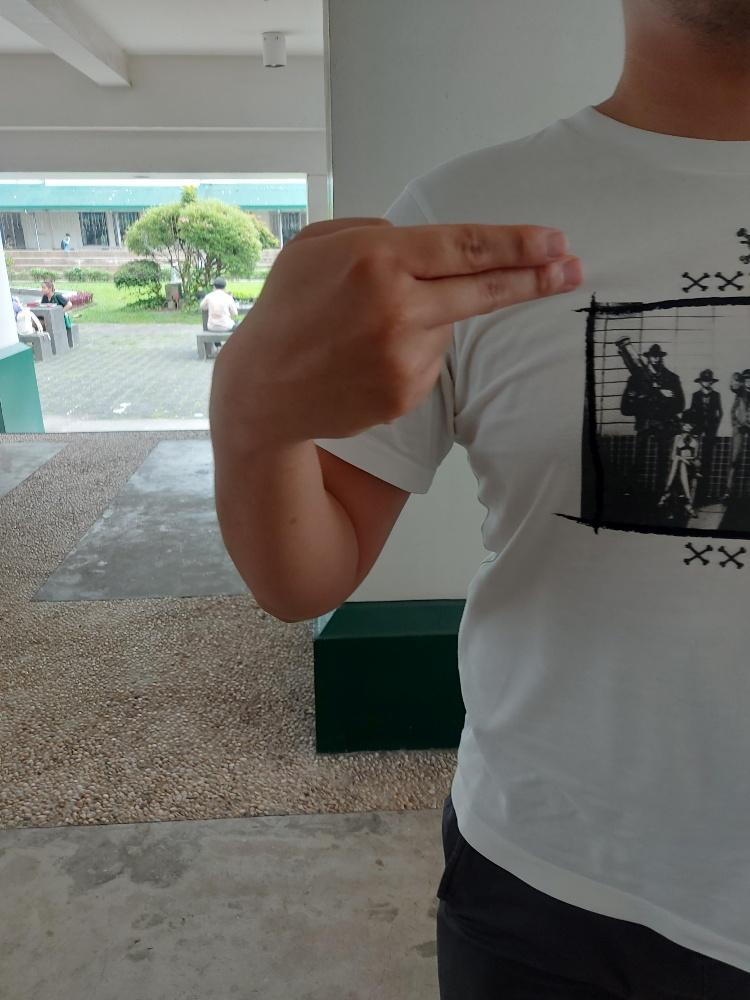h: (208, 208, 589, 444)
